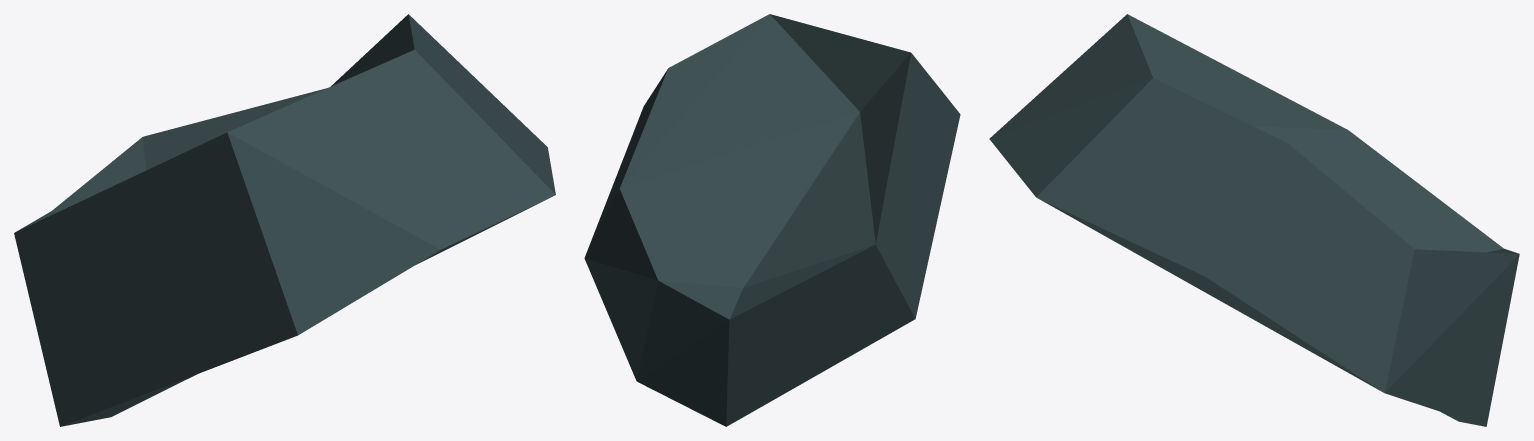
Rendered from ant-scape-bed-right.dae.
3 renders of one model, left to right at view 1: azimuth 30°, elevation 25°; view 2: azimuth 150°, elevation 25°; view 3: azimuth 270°, elevation 25°, orthographic. The views are drawn at different scales.
Parts seen in each view (by area): view 1: ant-scape-bed-right; view 2: ant-scape-bed-right; view 3: ant-scape-bed-right.
Part boxes in pixels (x1,y1,x2,y2): ant-scape-bed-right: [14, 14, 555, 426]; ant-scape-bed-right: [584, 14, 960, 426]; ant-scape-bed-right: [989, 14, 1519, 426].
Size of the model in its own units: 0.397 by 0.4868 by 0.3961.
